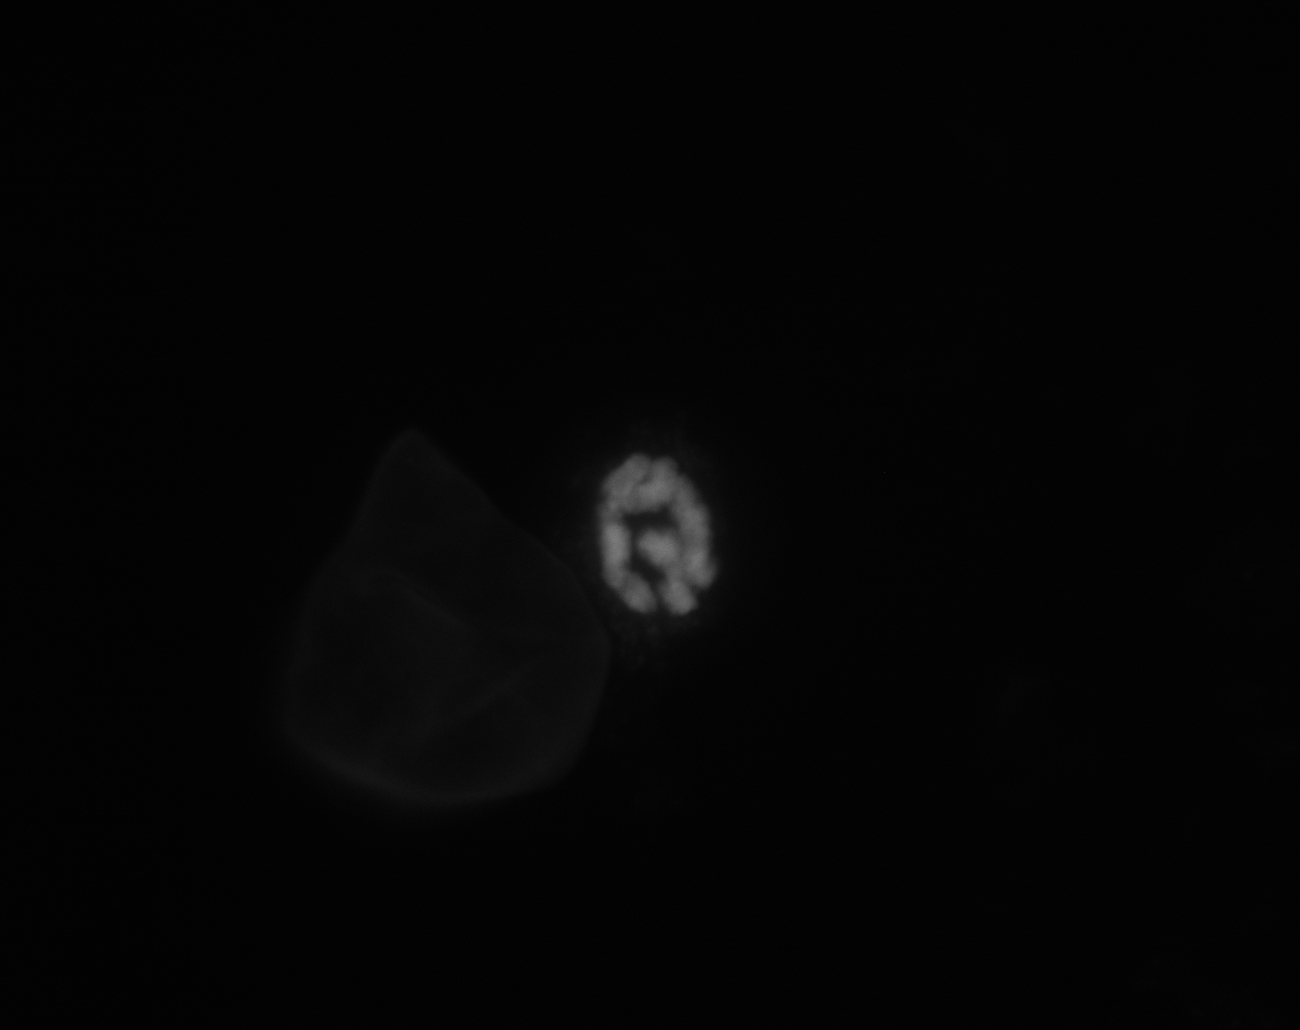Chromosomes: (541, 380, 761, 660)
Others: (216, 336, 688, 848)
